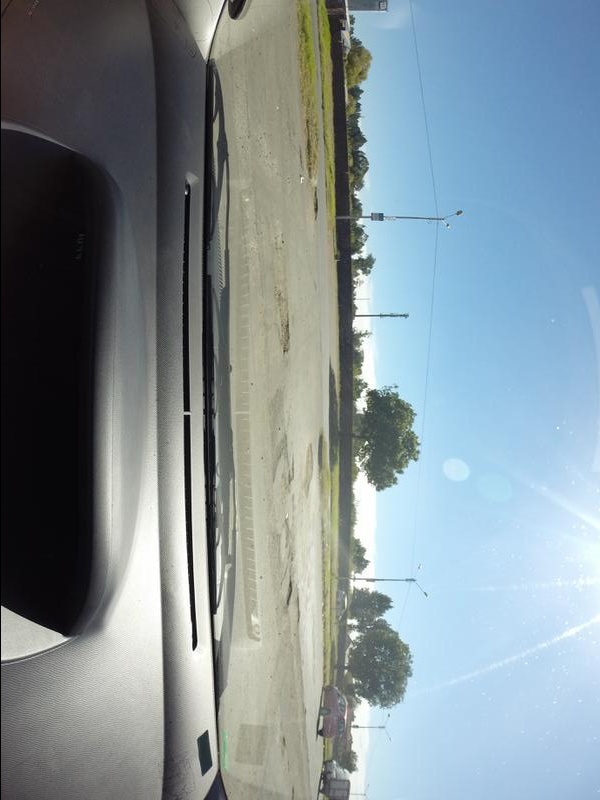pothole: (264, 403, 296, 489), (271, 281, 300, 360), (298, 444, 317, 505), (268, 520, 297, 554), (305, 187, 325, 231), (290, 590, 310, 627), (272, 732, 294, 759), (278, 575, 295, 606)
